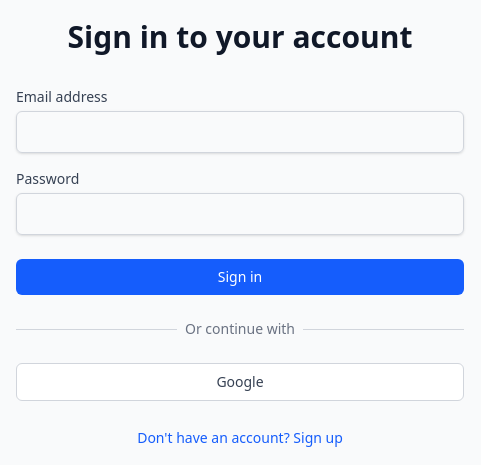
it: LoginView › login/register toggle › switches back to login mode when toggled twice
What coordinates should you click on to do the following:
click the button "Don't have an account? Sign up"
I would click on:
 (240, 438)
Its box is x1=137 y1=428 x2=343 y2=448.
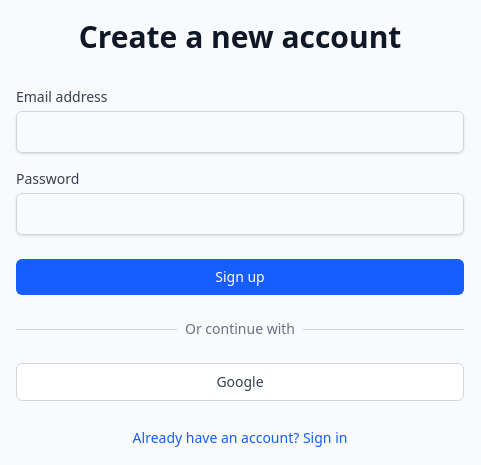
What coordinates should you click on to do the following:
click the button "Already have an account? Sign in"
I would click on:
 (240, 438)
Its box is x1=133 y1=428 x2=347 y2=448.
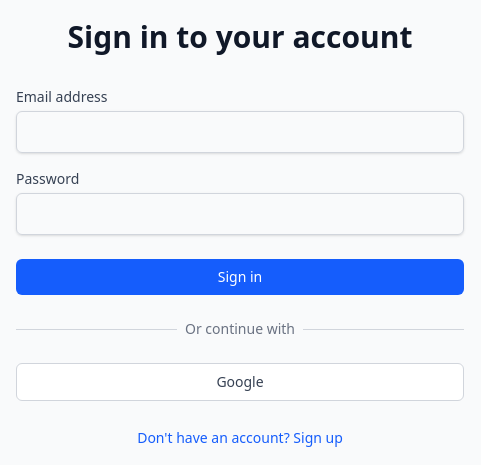
Now the heading "Sign in to your account" is shown, box x1=68 y1=16 x2=412 y2=57
